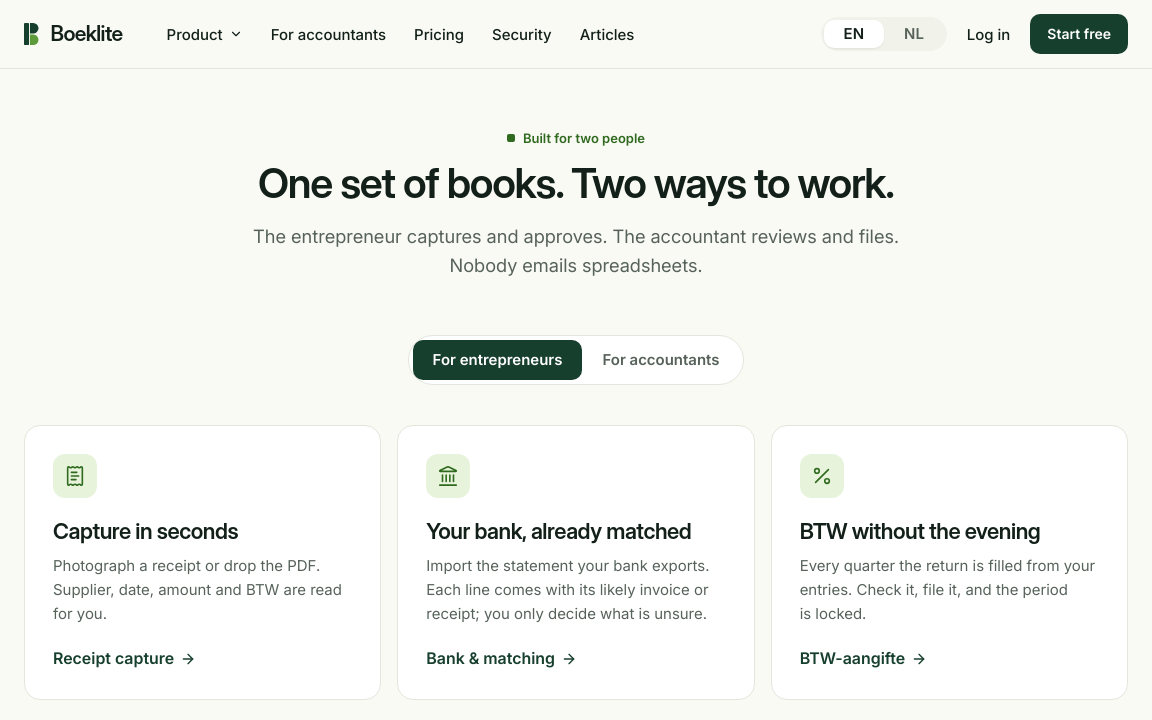
Test case: the pages › switches the audience cards with the tabs
(page scrolled)
expect the heading "Capture in seconds" is shown: met, box [53,518,238,544]
Click the tab with test id "mk-audience-accountants": (661, 360) [582,340,739,380]
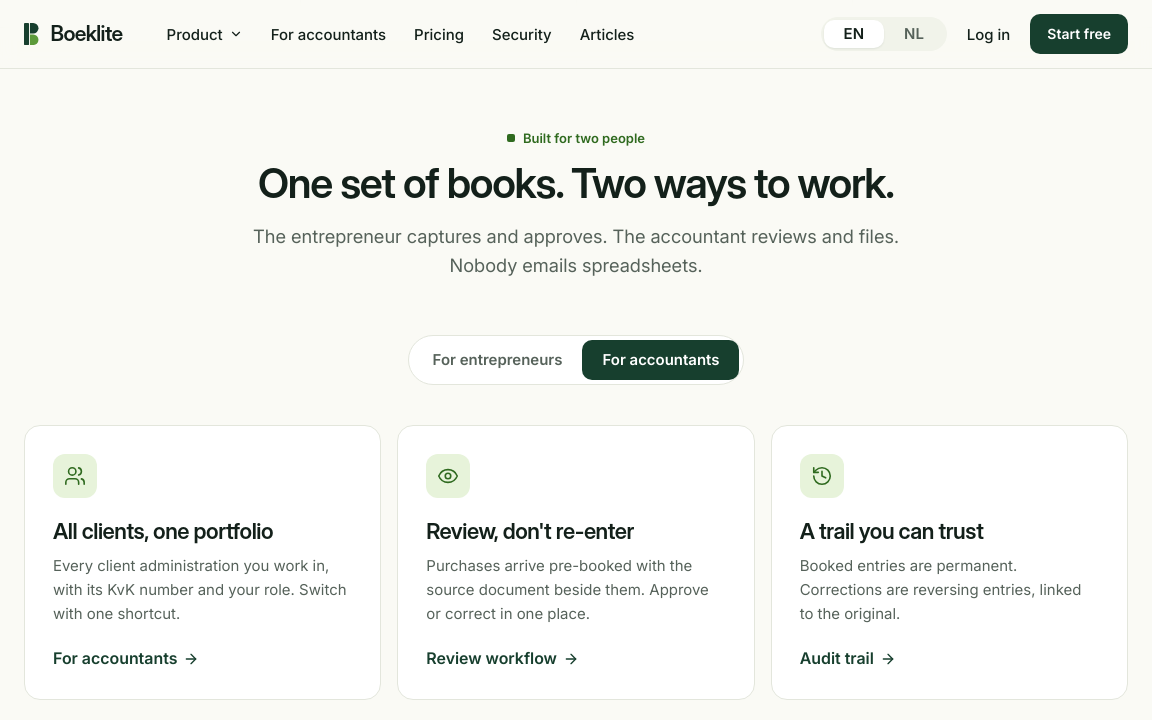
expect the heading "All clients, one portfolio" is shown: met, box [53,518,273,544]
expect the heading "Capture in seconds" is gone: met
